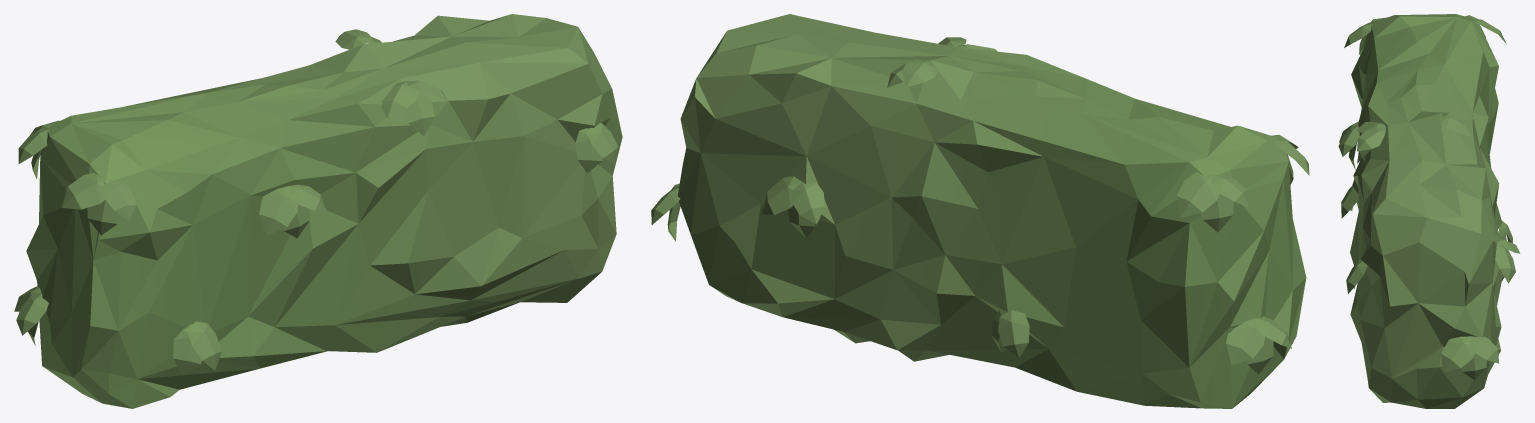
Rendered from elven_SM_Env_Hedge_Bush_03.gltf.
3 renders of one model, left to right at view 1: azimuth 30°, elevation 25°; view 2: azimuth 150°, elevation 25°; view 3: azimuth 270°, elevation 25°, orthographic. The views are drawn at different scales.
Visible parts, largest first — view 1: SM_Env_Hedge_Bush_03; view 2: SM_Env_Hedge_Bush_03; view 3: SM_Env_Hedge_Bush_03.
Part boxes in pixels (left/top/right/bottom): SM_Env_Hedge_Bush_03: left=14, top=14, right=622, bottom=408; SM_Env_Hedge_Bush_03: left=651, top=14, right=1309, bottom=408; SM_Env_Hedge_Bush_03: left=1338, top=14, right=1520, bottom=408.
Size of the model in its own units: 3.17 by 1.43 by 1.03.
Materials: 1 (1 with a texture image).
